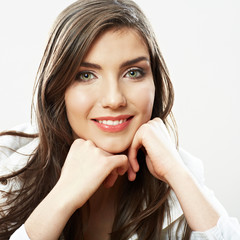teen: (44, 6, 163, 148)
